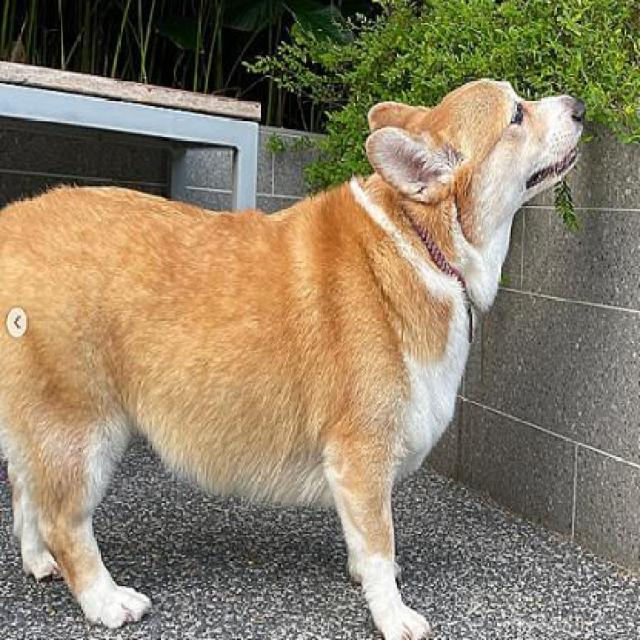Dog: (3, 76, 595, 638)
